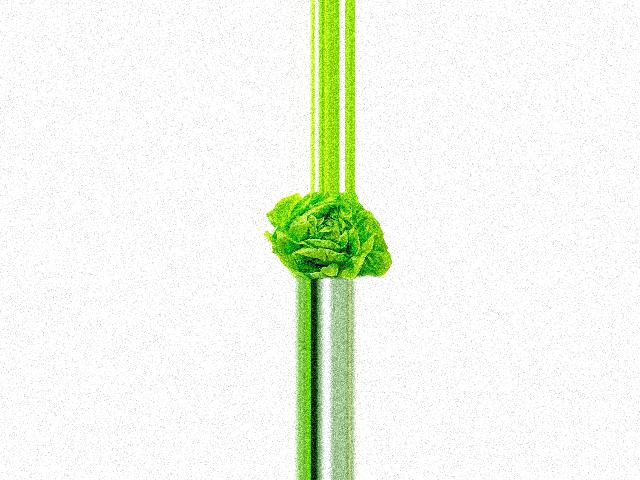lettuce: (269, 192, 394, 280)
